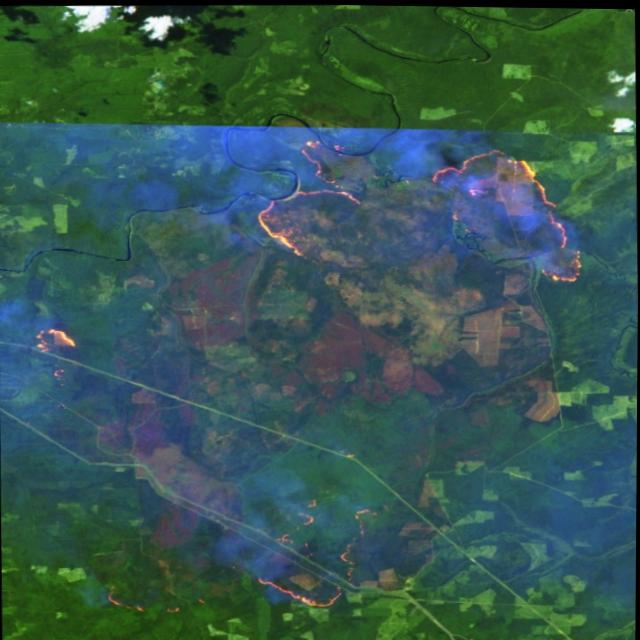fire: (240, 127, 594, 297), (24, 320, 91, 360)
